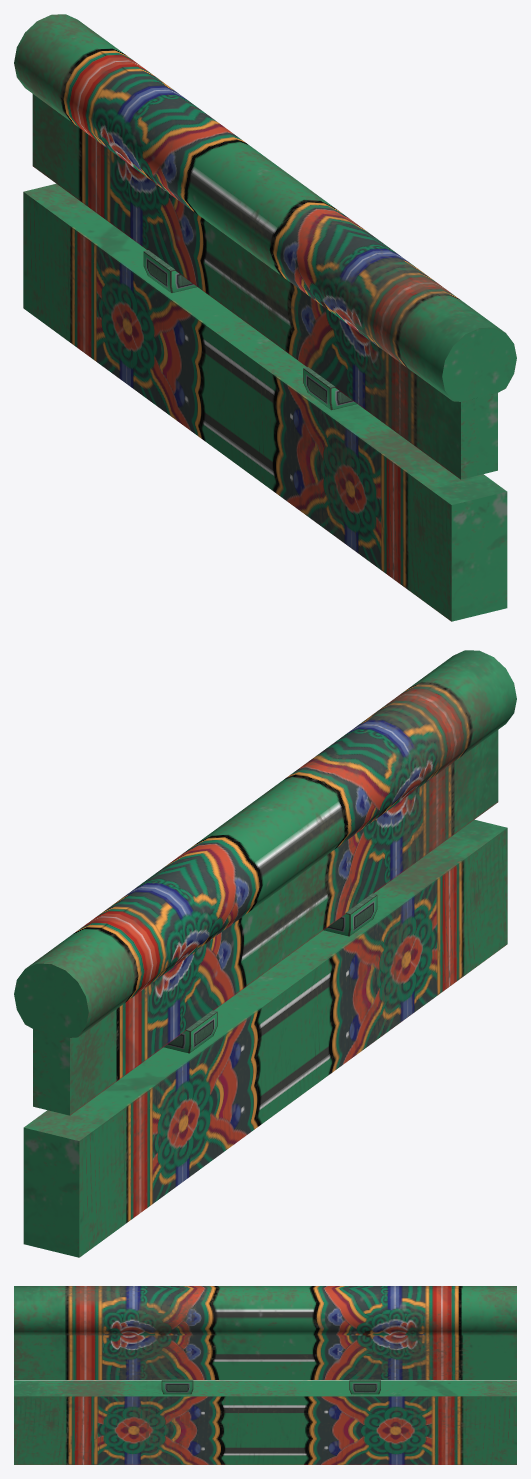
File: SM_Purlin02a.fbx
3 views of the same model, one above another, from view 1: azimuth 30°, elevation 25°; view 2: azimuth 150°, elevation 25°; view 3: azimuth 270°, elevation 25° (orthographic). The views are drawn at different scales.
Parts seen in each view (by area): view 1: SM_Purlin02a; view 2: SM_Purlin02a; view 3: SM_Purlin02a.
Boxes of the visible parts, bbox=[...] form: SM_Purlin02a: bbox=[14, 14, 516, 621]; SM_Purlin02a: bbox=[14, 650, 516, 1257]; SM_Purlin02a: bbox=[14, 1286, 516, 1464].
Size of the model in its own units: 20.15 by 200 by 73.79.
2 materials, 2 textured.
